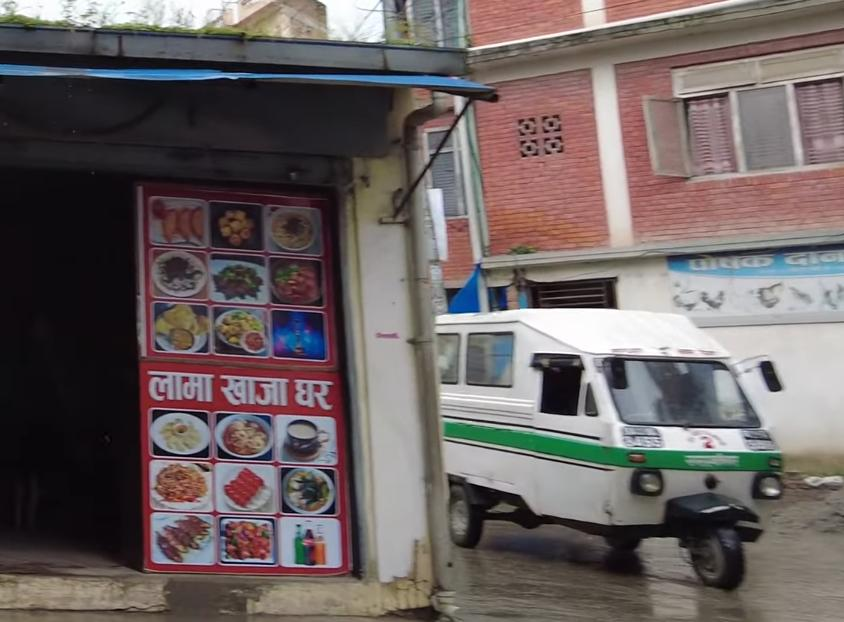tempo: (419, 305, 791, 594)
